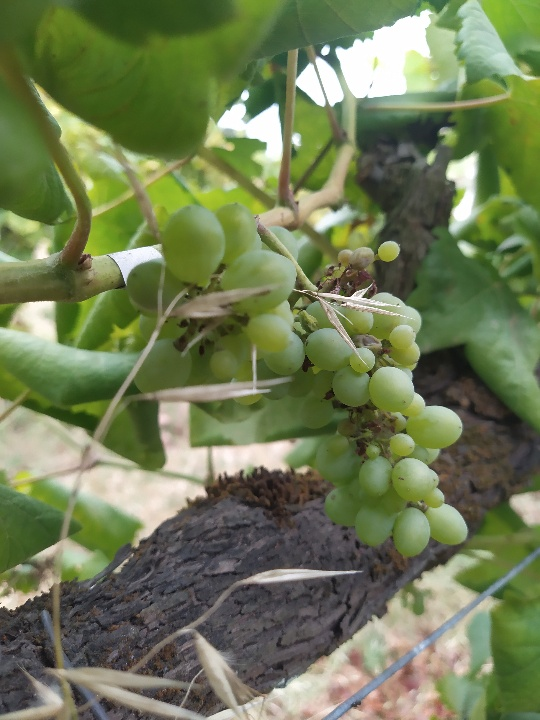grape: (124, 199, 473, 559)
